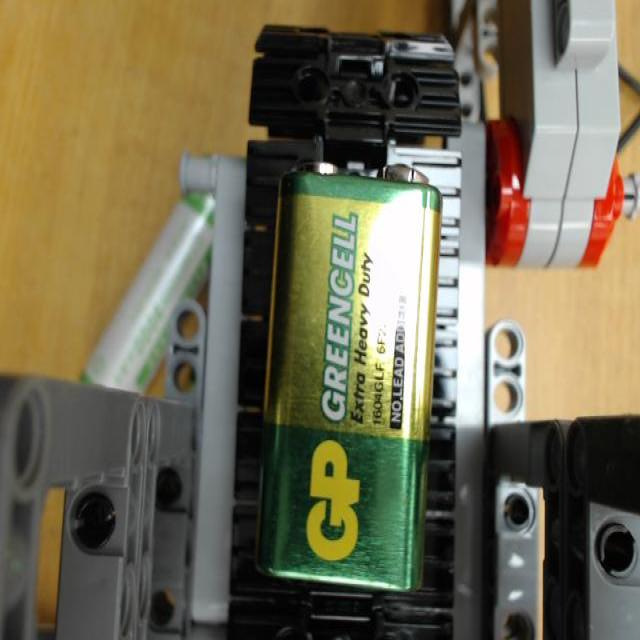9V: (256, 158, 444, 598)
